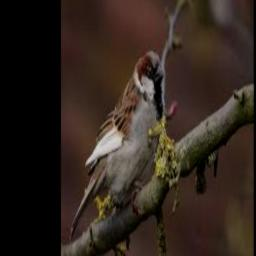Sparrow: (69, 49, 163, 242)
